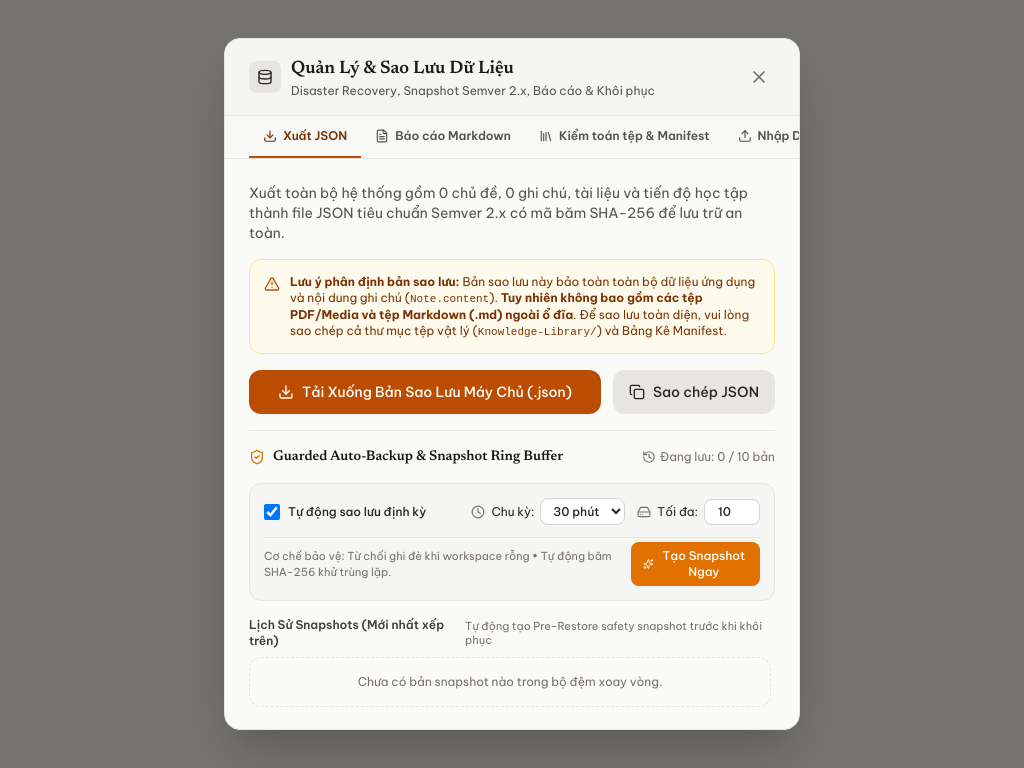
Scenario: Post-Phase 6b: UI - Recommended Structure, Browser Limitation Warning & Backup Checklist › displays the 3-pillar + Obsidian Vault backup readiness checklist with incomplete backup warning
What coordinates should you click on to do the following:
click the button "Kiểm toán tệp & Manifest"
I would click on:
 (624, 137)
Its box is left=525, top=116, right=724, bottom=158.
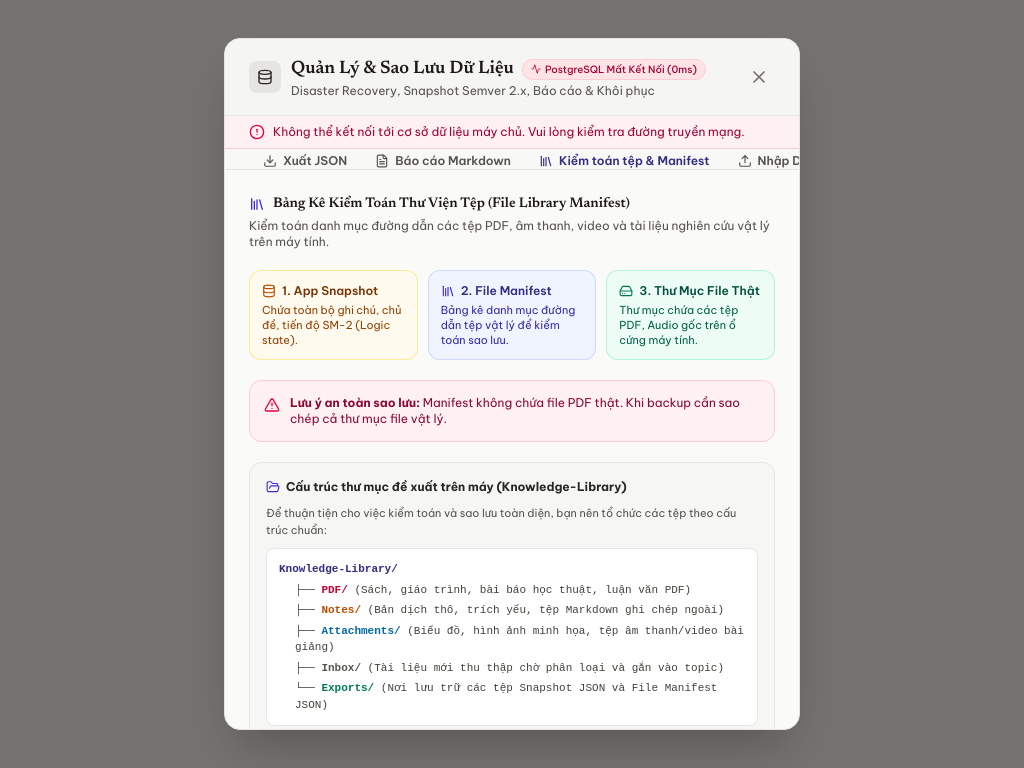
Now the text "1. App Snapshot" is shown, box left=262, top=283, right=378, bottom=298
Now the text "2. File Manifest" is shown, box left=441, top=283, right=552, bottom=298
Now the text "3. Thư Mục File Thật" is shown, box left=619, top=283, right=762, bottom=299
